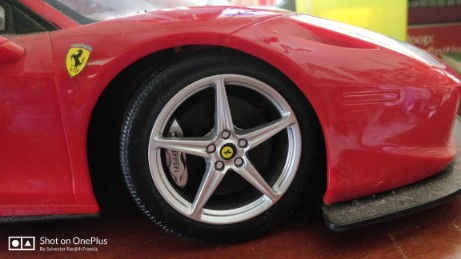unaligned_wheel: (110, 49, 323, 251)
